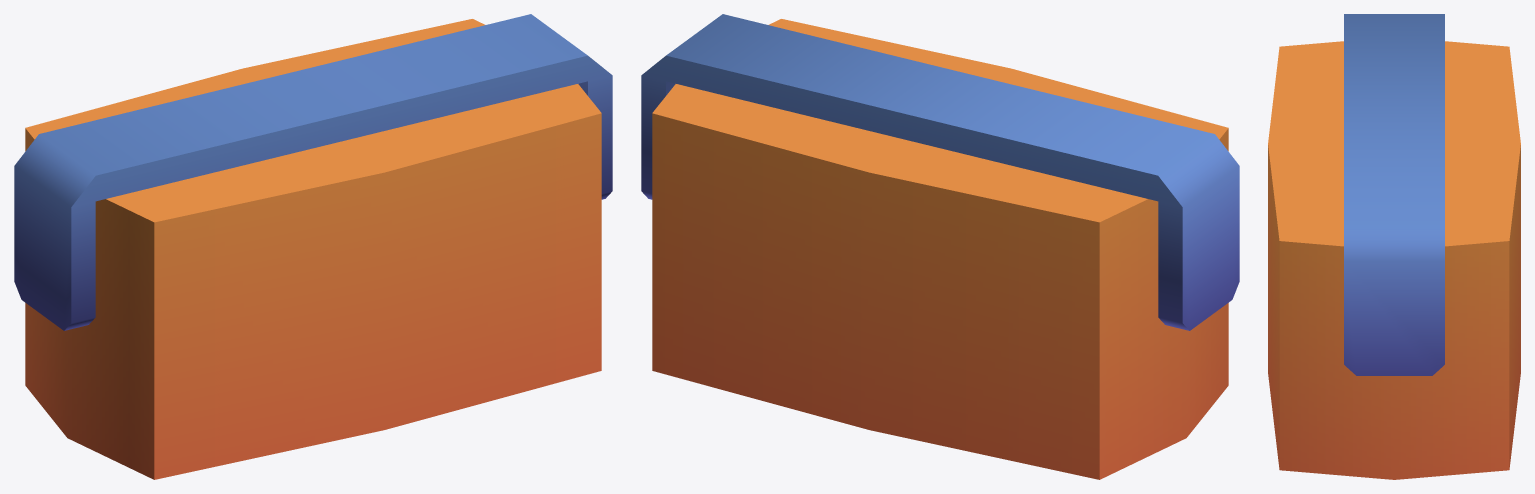
File: box-long.obj
3 renders of one model, left to right at view 1: azimuth 30°, elevation 25°; view 2: azimuth 150°, elevation 25°; view 3: azimuth 270°, elevation 25°, orthographic. The views are drawn at different scales.
Parts seen in each view (by area): view 1: box-long; view 2: box-long; view 3: box-long.
Boxes of the visible parts, left/top/right/bottom form: box-long: left=14, top=14, right=612, bottom=479; box-long: left=641, top=14, right=1239, bottom=479; box-long: left=1268, top=14, right=1520, bottom=479.
Bounding box in the file's own units: 1.1 × 0.55 × 0.5.
